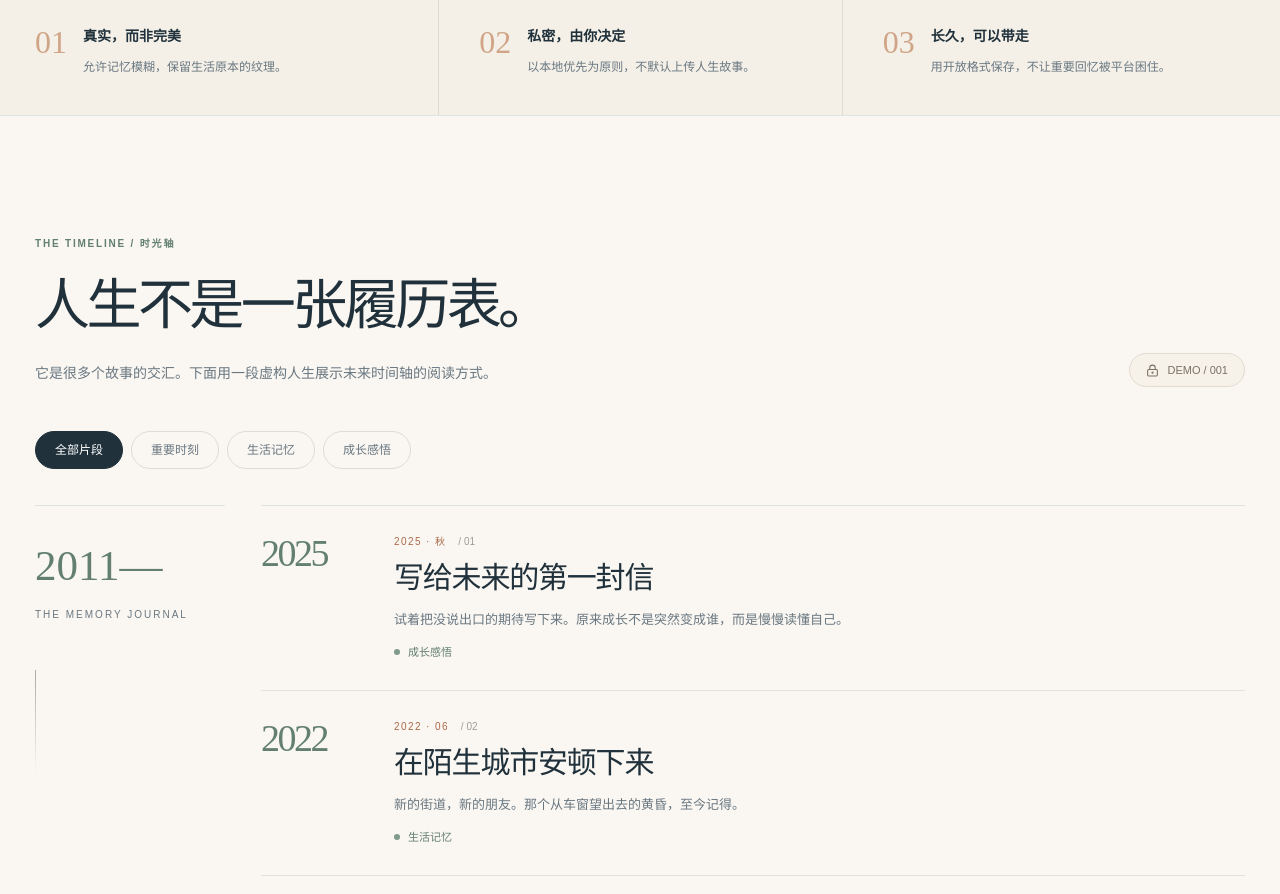
Test: M0 homepage › switches languages and filters the example timeline
The image size is (1280, 894).
(page scrolled)
Click the button "重要时刻". click: click(175, 450)
box: top-left (131, 432), bottom-right (219, 470)
(page scrolled)
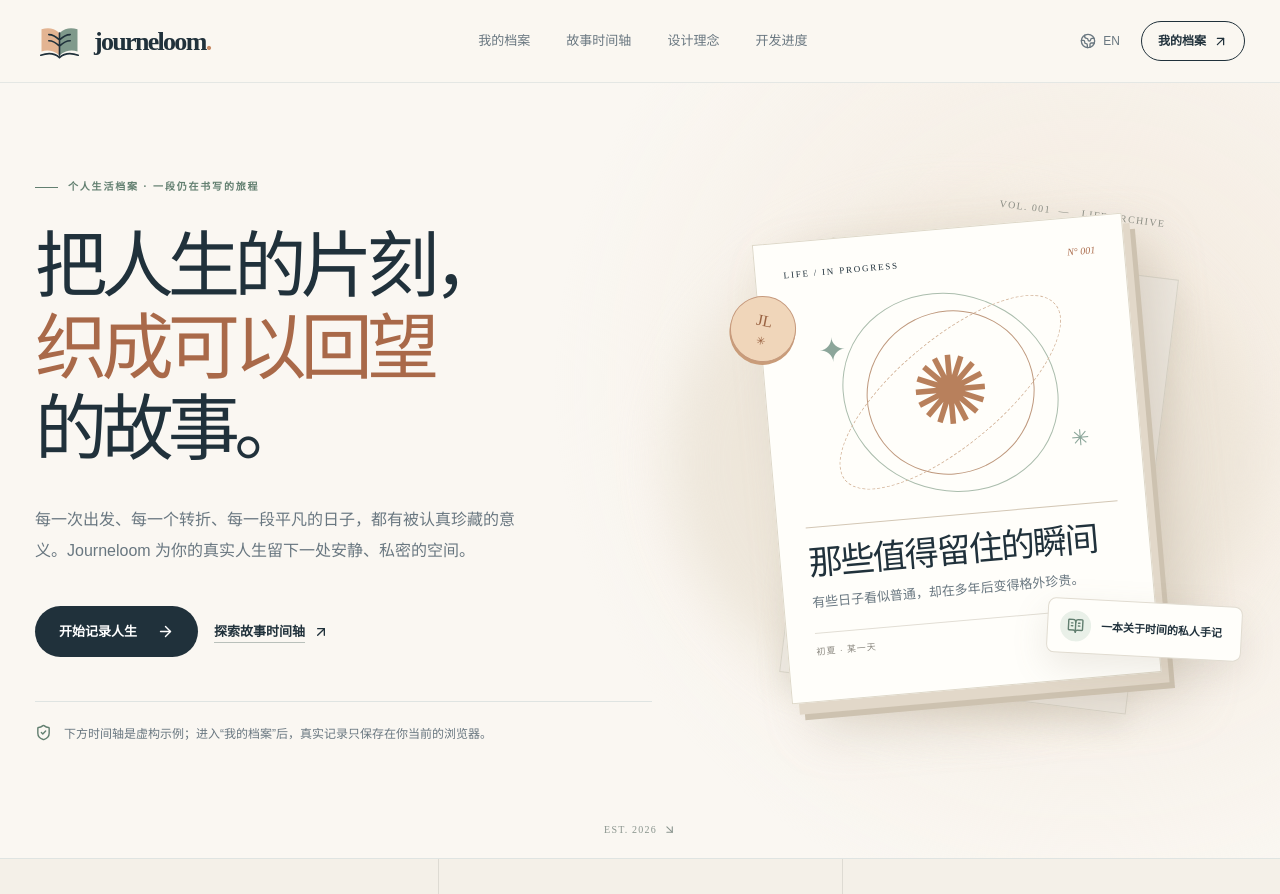
Check: the heading "写给未来的第一封信" is gone
Click the button with aria-label "Switch to English". click: click(1100, 41)
box: top-left (1075, 22), bottom-right (1125, 60)
(page scrolled)
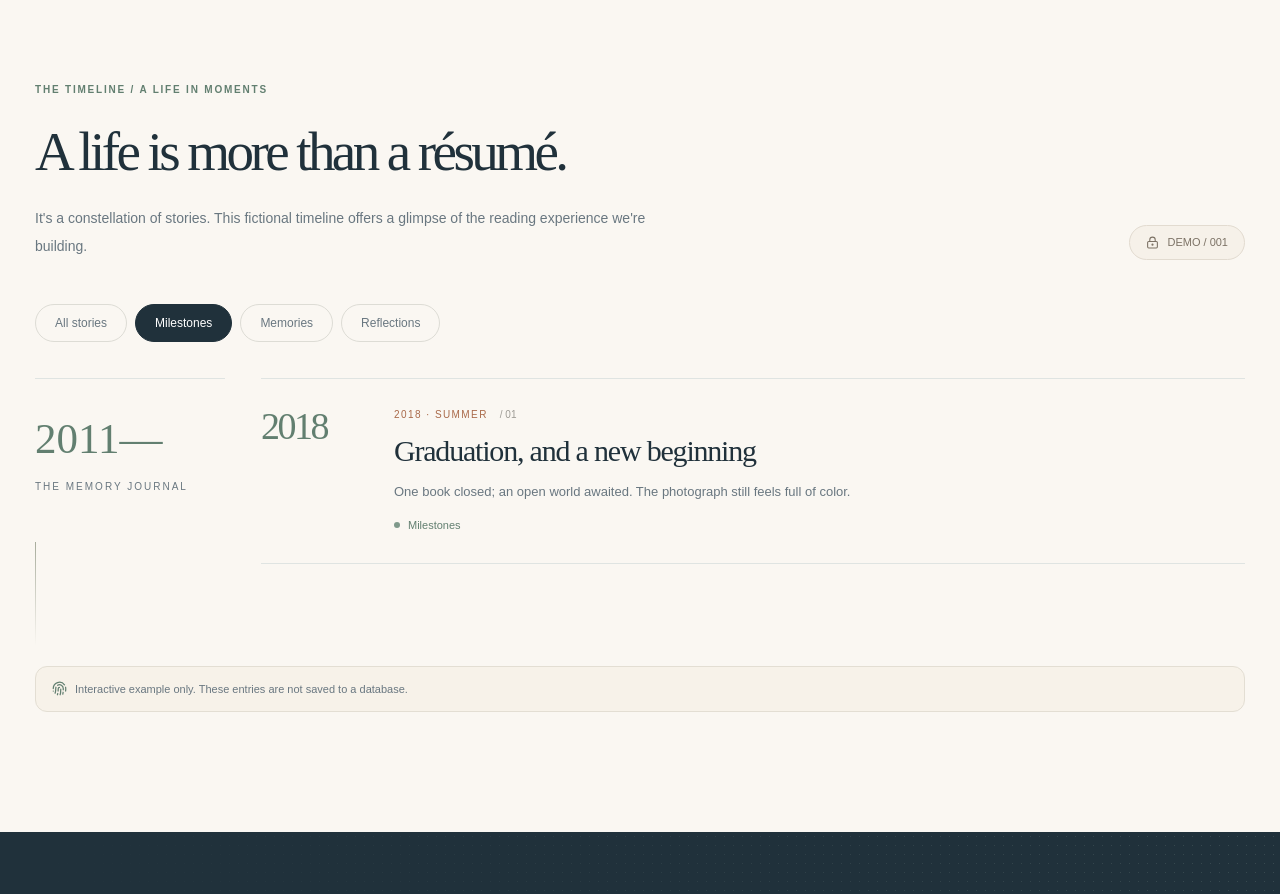
Check: the heading "A life is more than a résumé." is shown, box top-left (35, 121), bottom-right (566, 182)
Check: the heading "Graduation, and a new beginning" is shown, box top-left (394, 434), bottom-right (756, 467)
